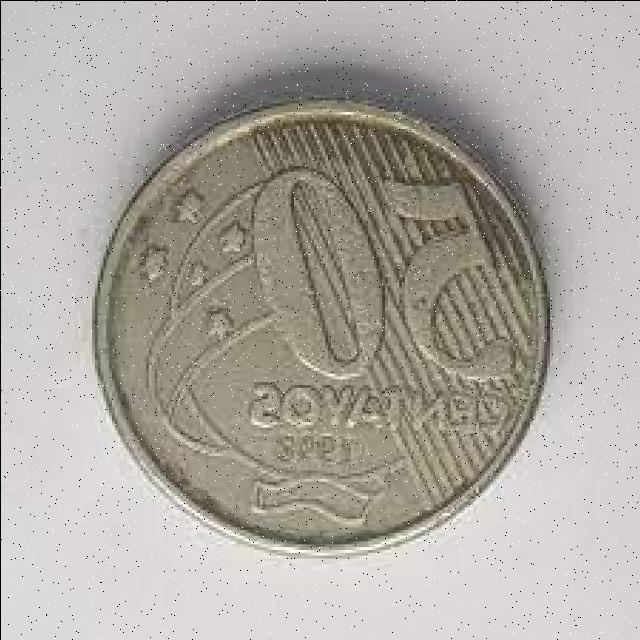50 cent: (87, 101, 547, 558)
